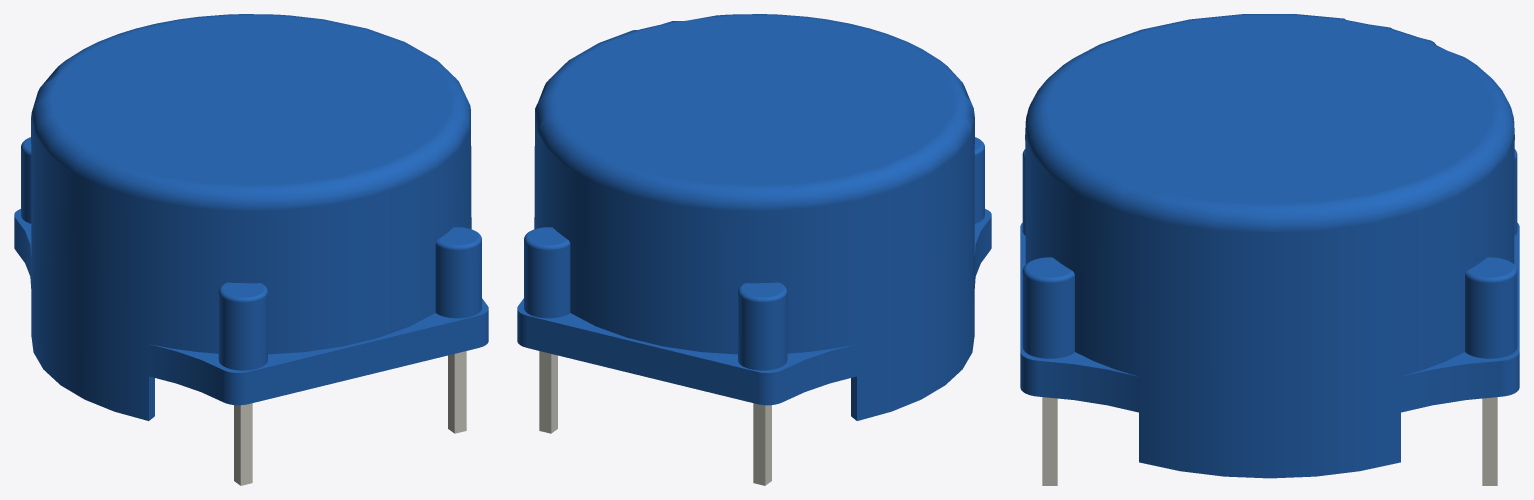
The model's file is inductor_toroidal.glb.
The picture shows the model from 3 angles, left to right: view 1: azimuth 30°, elevation 25°; view 2: azimuth 150°, elevation 25°; view 3: azimuth 270°, elevation 25°; orthographic projection. The views are drawn at different scales.
Visible parts, largest first — view 1: U1; view 2: U1; view 3: U1.
Part boxes in pixels (x1=…): U1: x1=14, y1=14, x2=488, y2=485; U1: x1=517, y1=14, x2=991, y2=485; U1: x1=1020, y1=14, x2=1519, y2=485.
Bounding box in the file's own units: 0.0223 × 0.0158 × 0.0227.
